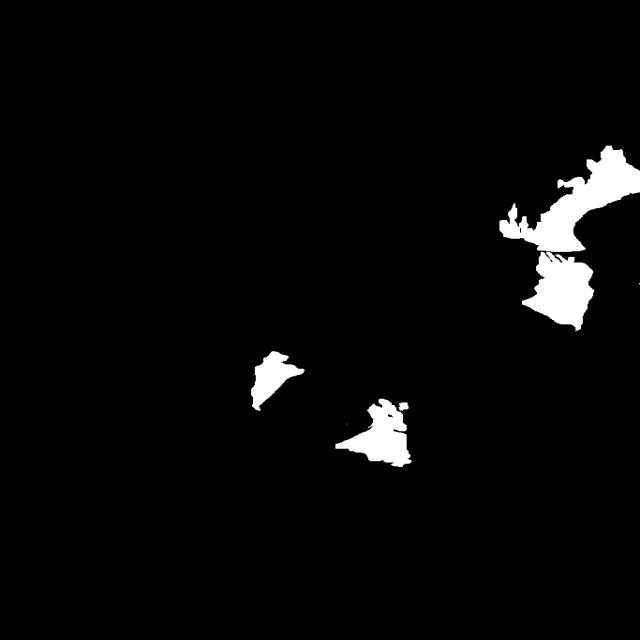fire: (365, 101, 640, 424), (148, 319, 456, 517)
